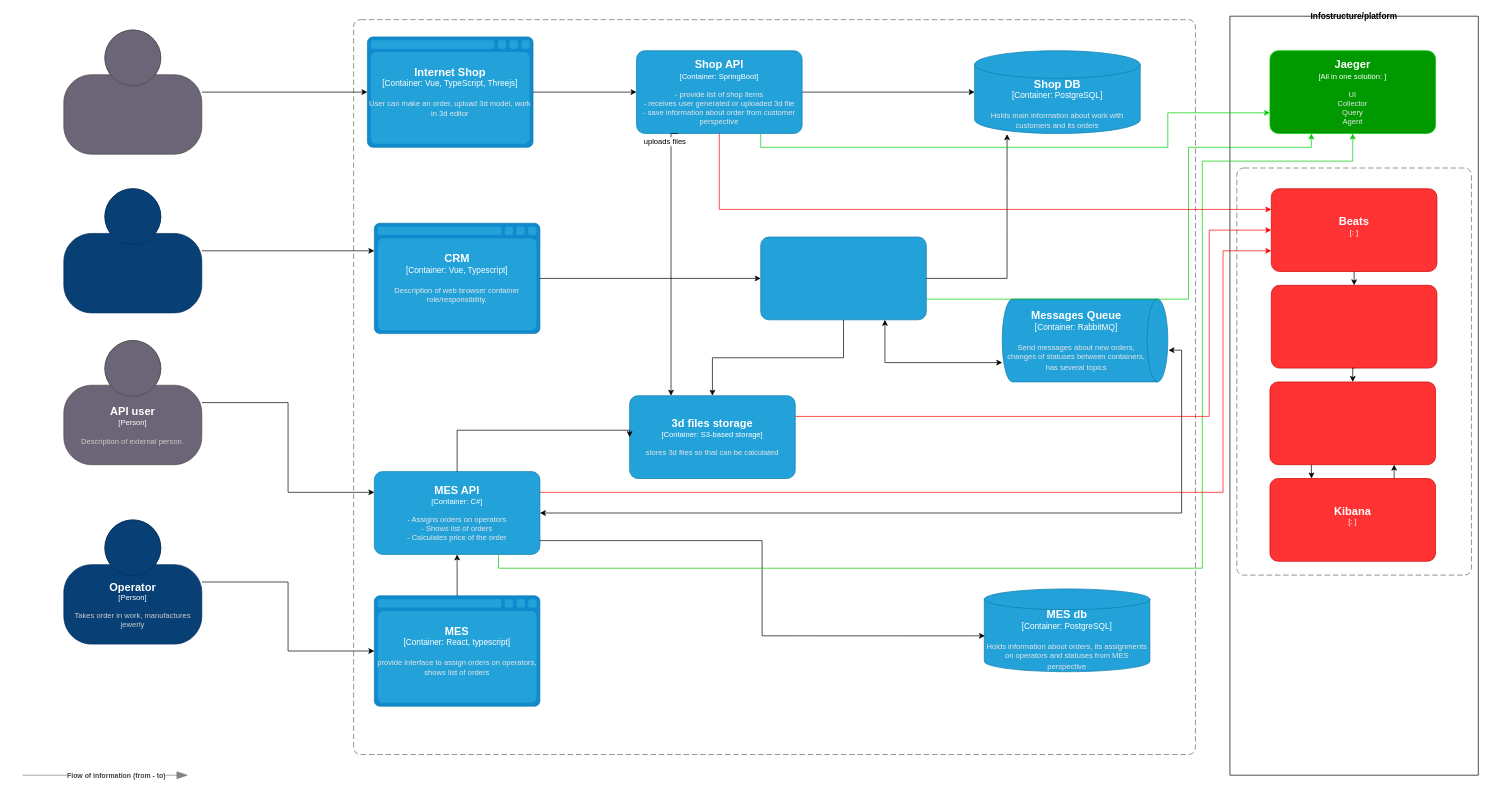
This 1490x798 diagram has some shape labels left out. Each missing label, with the box of its shape:
CRM API [Container: SpringBoot] Description of container role/responsibility.: (760, 236, 926, 320)
Customer [Person] Description of external person.: (63, 29, 202, 154)
Elastic [: ]: (1269, 381, 1436, 465)
ELK [ELK]: (1236, 167, 1471, 575)
Jewerly Store System [Software System]: (353, 19, 1195, 755)
Logstash [: ]: (1271, 285, 1437, 368)
Seller [Person] Operates with order, confirms manufacturing for the user: (63, 188, 202, 313)
